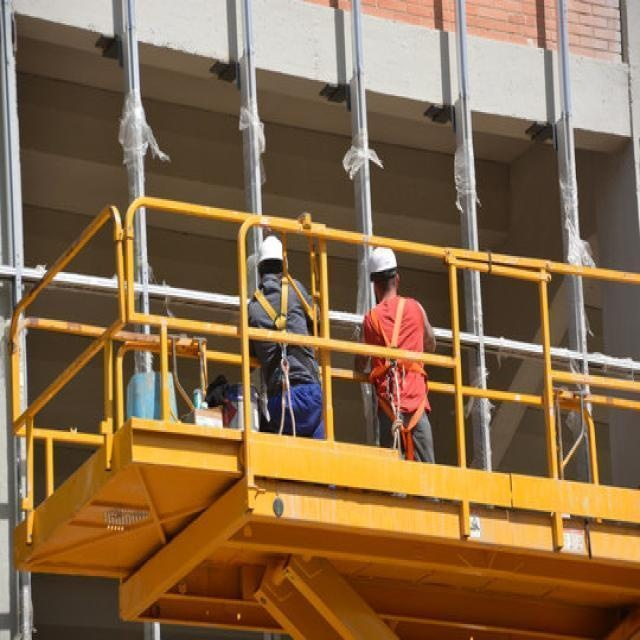Arnes_seguridad: (366, 295, 424, 446), (252, 283, 288, 330)
